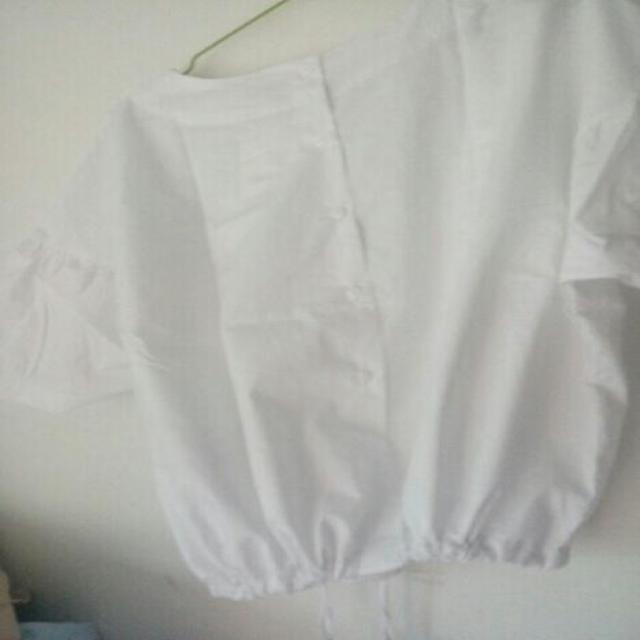short-sleeve-top: (28, 31, 623, 539)
